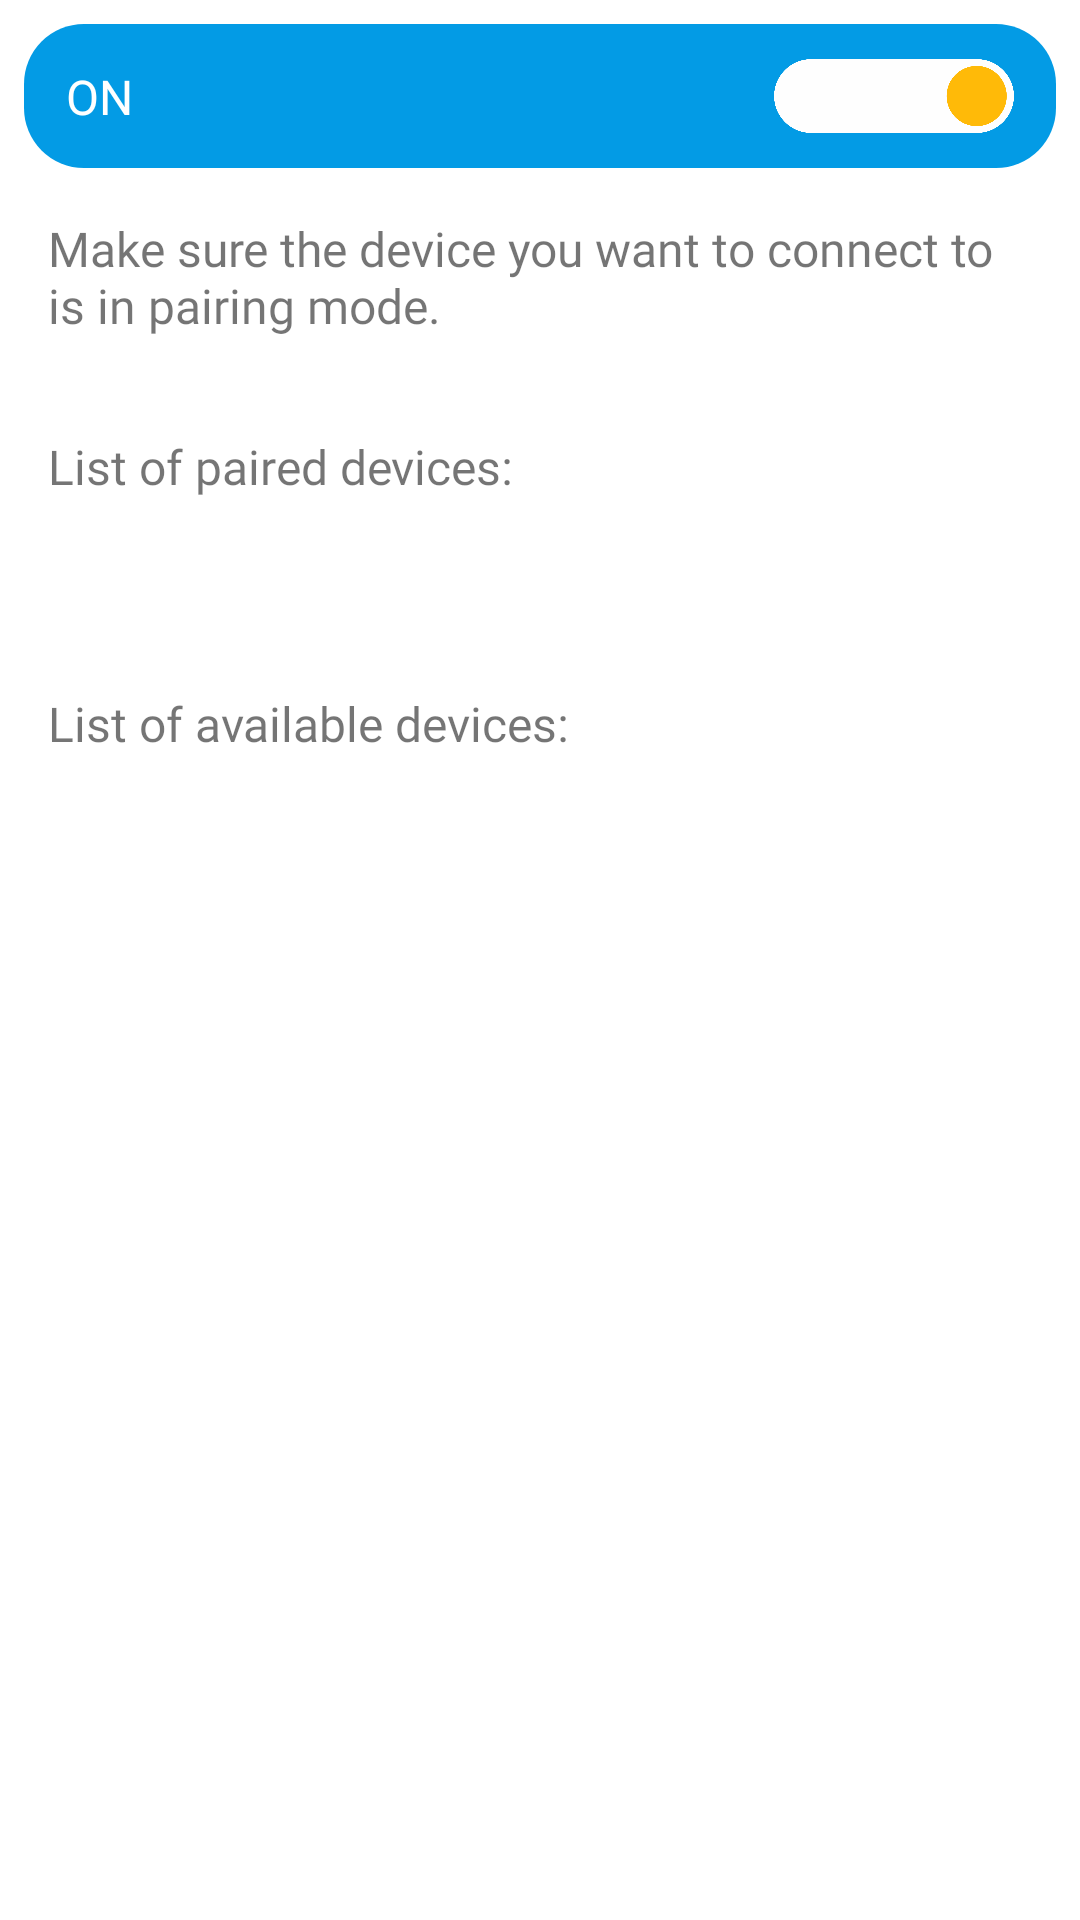

Where icons sit on this 1080*1920 app screen, as [x1, y1, x2, y2]:
switch on: [774, 59, 1014, 133]
